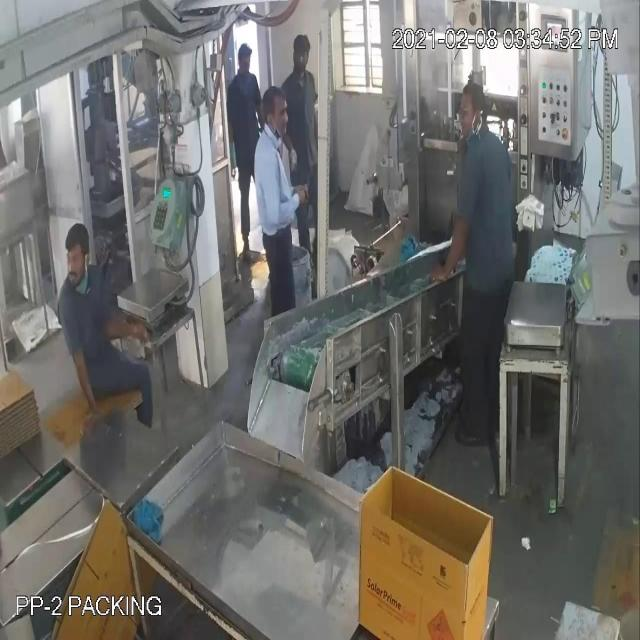No_Gloves: (33, 54, 450, 371)
